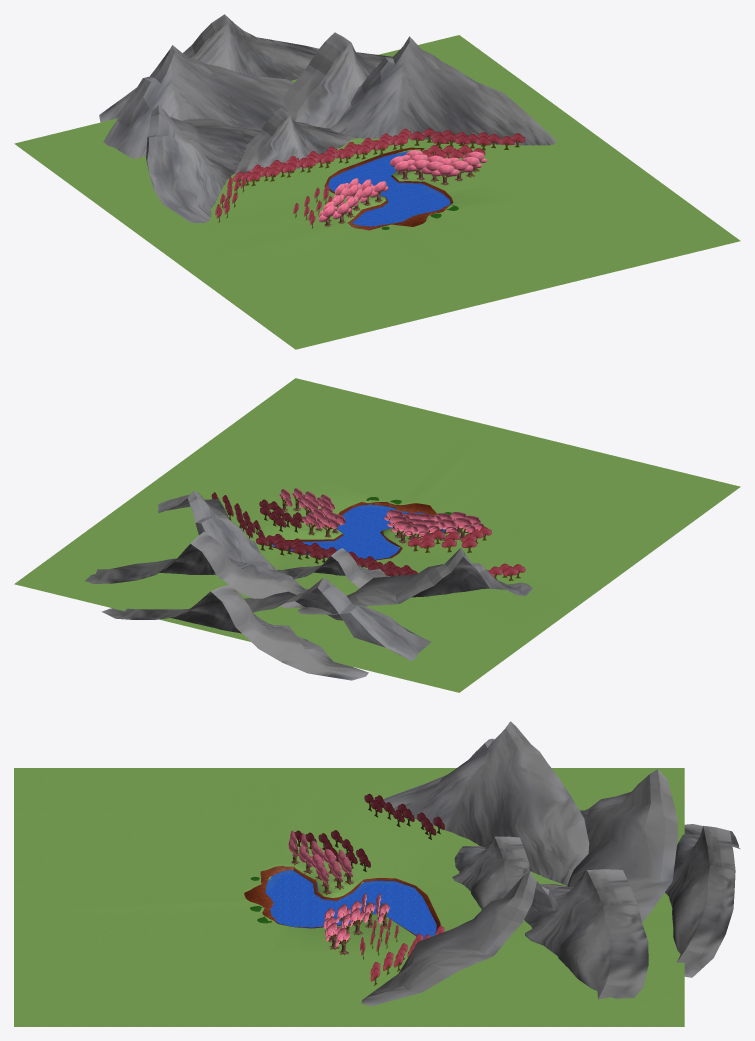
File: 340_bg_lakeB.fbx
The picture shows the model from 3 angles, top to bottom: view 1: azimuth 30°, elevation 25°; view 2: azimuth 150°, elevation 25°; view 3: azimuth 270°, elevation 25°; orthographic projection. The views are drawn at different scales.
Visible parts, largest first — view 1: ground, _bg_grassC:polySurface1, _bg_grassC:polySurface17, _bg_grassC:polySurface18, _bg_grassC:polySurface19, _bg_grassC:polySurface20, lake, _bg_grassC:polySurface16, polySurface2; view 2: ground, _bg_grassC:polySurface20, _bg_grassC:polySurface19, _bg_grassC:polySurface18, _bg_grassC:polySurface17, _bg_grassC:polySurface1, lake, _bg_grassC:polySurface16; view 3: ground, _bg_grassC:polySurface18, _bg_grassC:polySurface19, _bg_grassC:polySurface17, _bg_grassC:polySurface20, _bg_grassC:polySurface1, lake, _bg_grassC:polySurface16, polySurface2, polySurface1.
Boxes of the visible parts, <box> form: ground: <box>14,35,740,349</box>; _bg_grassC:polySurface1: <box>330,36,555,145</box>; _bg_grassC:polySurface17: <box>103,45,293,158</box>; _bg_grassC:polySurface18: <box>146,105,260,223</box>; _bg_grassC:polySurface19: <box>283,32,392,128</box>; _bg_grassC:polySurface20: <box>99,14,318,122</box>; lake: <box>328,151,450,226</box>; _bg_grassC:polySurface16: <box>234,108,357,176</box>; polySurface2: <box>324,147,453,222</box>; ground: <box>14,378,740,692</box>; _bg_grassC:polySurface20: <box>101,584,368,680</box>; _bg_grassC:polySurface19: <box>85,532,308,608</box>; _bg_grassC:polySurface18: <box>298,548,532,614</box>; _bg_grassC:polySurface17: <box>244,578,431,660</box>; _bg_grassC:polySurface1: <box>158,490,277,571</box>; lake: <box>270,504,444,559</box>; _bg_grassC:polySurface16: <box>277,548,390,588</box>; ground: <box>14,768,684,1026</box>; _bg_grassC:polySurface18: <box>380,721,589,885</box>; _bg_grassC:polySurface19: <box>524,869,648,999</box>; _bg_grassC:polySurface17: <box>567,769,678,922</box>; _bg_grassC:polySurface20: <box>665,824,740,977</box>; _bg_grassC:polySurface1: <box>361,872,558,1006</box>; lake: <box>265,870,436,939</box>; _bg_grassC:polySurface16: <box>452,836,529,908</box>; polySurface2: <box>275,868,440,936</box>; polySurface1: <box>244,865,294,921</box>.
Size of the model in its own units: 6380 by 1361 by 7576.
